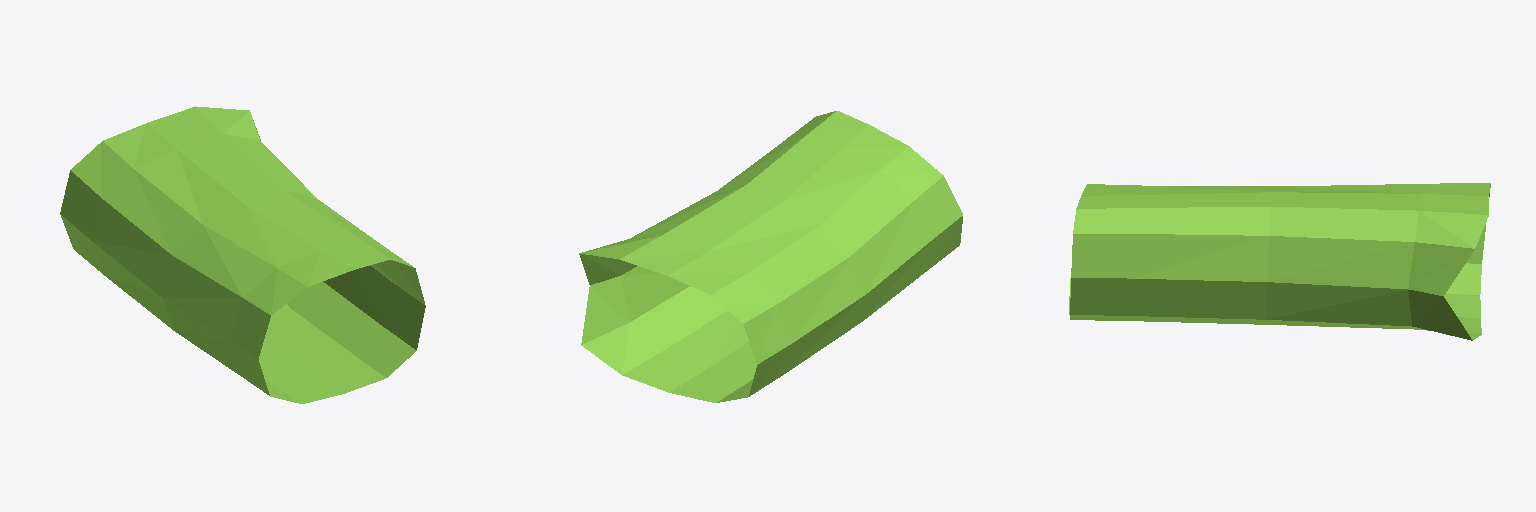
The model's file is right_thigh.obj.
The picture shows the model from 3 angles: view 1: azimuth 30°, elevation 25°; view 2: azimuth 150°, elevation 25°; view 3: azimuth 270°, elevation 25°; orthographic projection.
Parts seen in each view (by area): view 1: Stickman_Cube.007; view 2: Stickman_Cube.007; view 3: Stickman_Cube.007.
Boxes of the visible parts, box(x1,y1,x2,y2) form: Stickman_Cube.007: box(60, 106, 425, 403); Stickman_Cube.007: box(579, 111, 962, 402); Stickman_Cube.007: box(1069, 183, 1490, 340).
Size of the model in its own units: 0.6795 by 0.424 by 1.29.